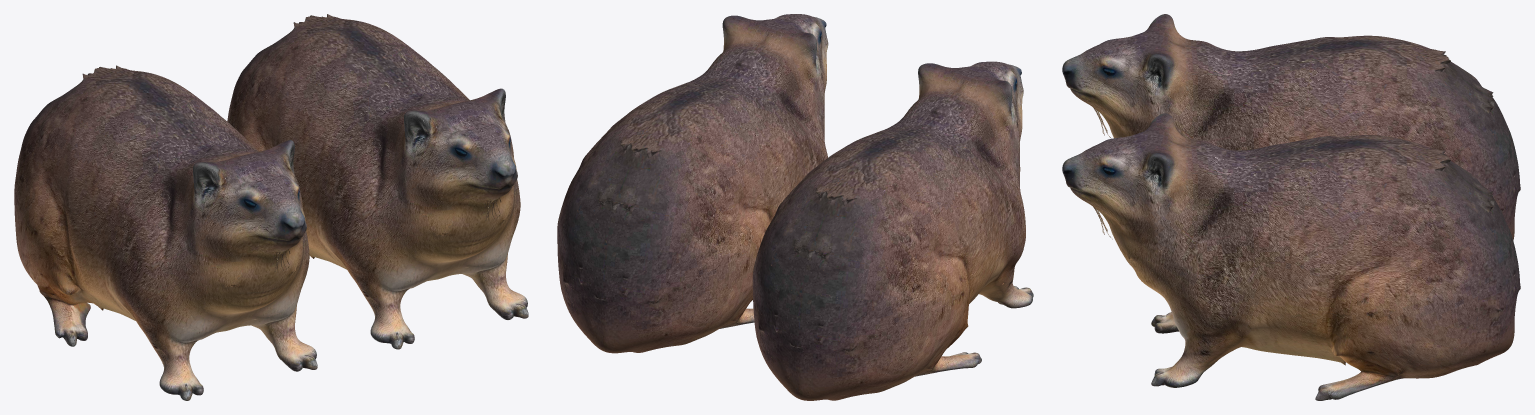
Rendered from Hyrax_red.glb.
The picture shows the model from 3 angles, left to right: view 1: azimuth 30°, elevation 25°; view 2: azimuth 150°, elevation 25°; view 3: azimuth 270°, elevation 25°; orthographic projection. The views are drawn at different scales.
Visible parts, largest first — view 1: mesh_0.001, mesh_0; view 2: mesh_0.001, mesh_0; view 3: mesh_0, mesh_0.001.
Boxes of the visible parts, x1=… form: mesh_0.001: x1=14, y1=65, x2=317, y2=400; mesh_0: x1=227, y1=14, x2=528, y2=349; mesh_0.001: x1=752, y1=61, x2=1033, y2=400; mesh_0: x1=557, y1=14, x2=828, y2=353; mesh_0: x1=1062, y1=113, x2=1520, y2=400; mesh_0.001: x1=1062, y1=14, x2=1520, y2=240.
Size of the model in its own units: 1.93 by 1.02 by 1.9.
2 materials, 2 textured.
